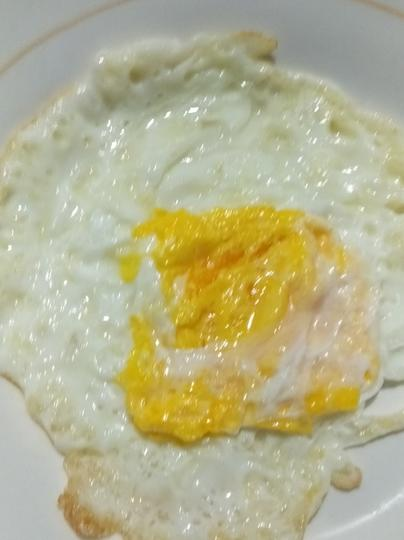Telur: (1, 35, 399, 538)
